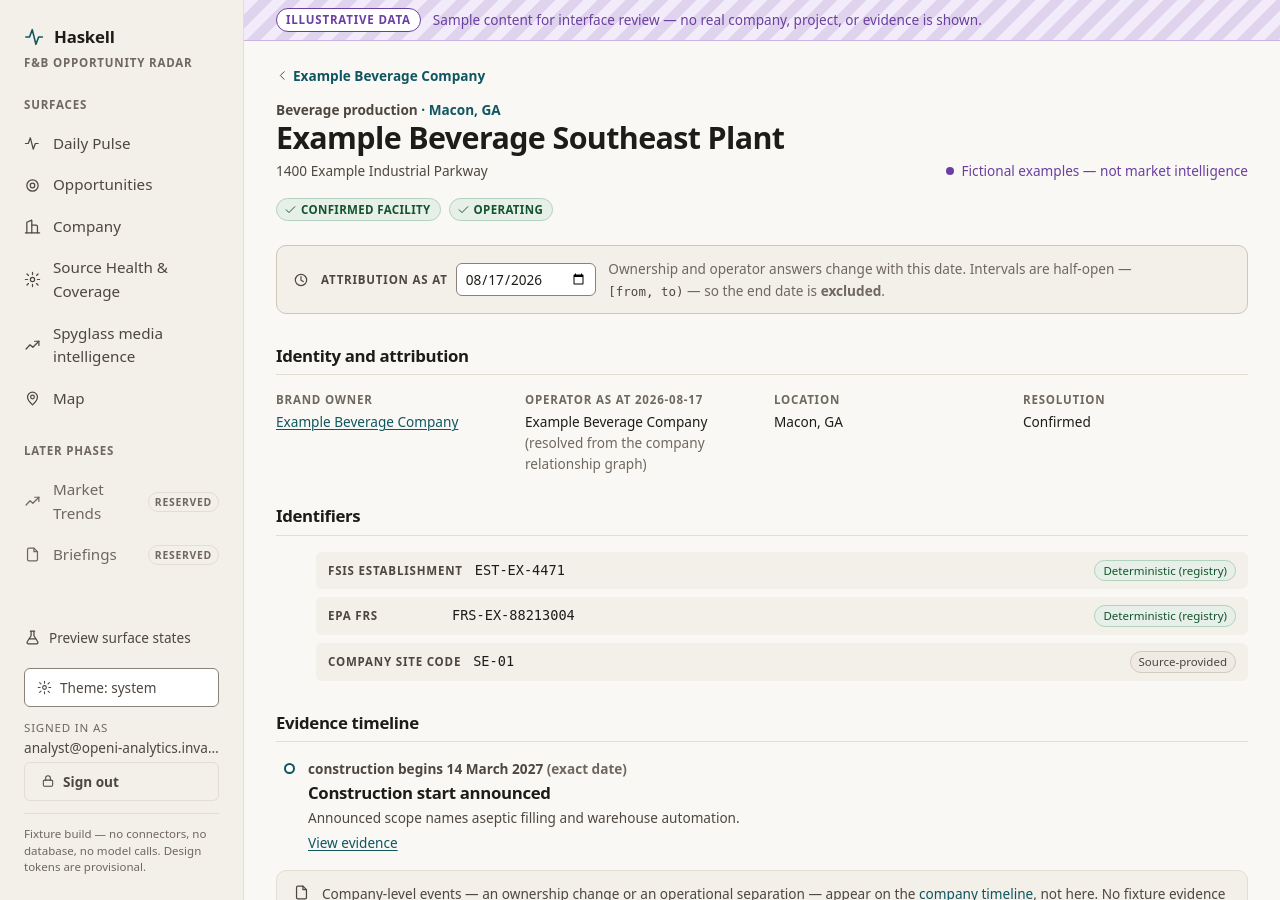
Test case: facility detail › reaches evidence from a site event
The image size is (1280, 900).
Check: the heading "Example Beverage Southeast Plant" is shown, box 276,120 -> 784,156
Click the link "View evidence" at (353, 843), box 308,832 -> 398,854
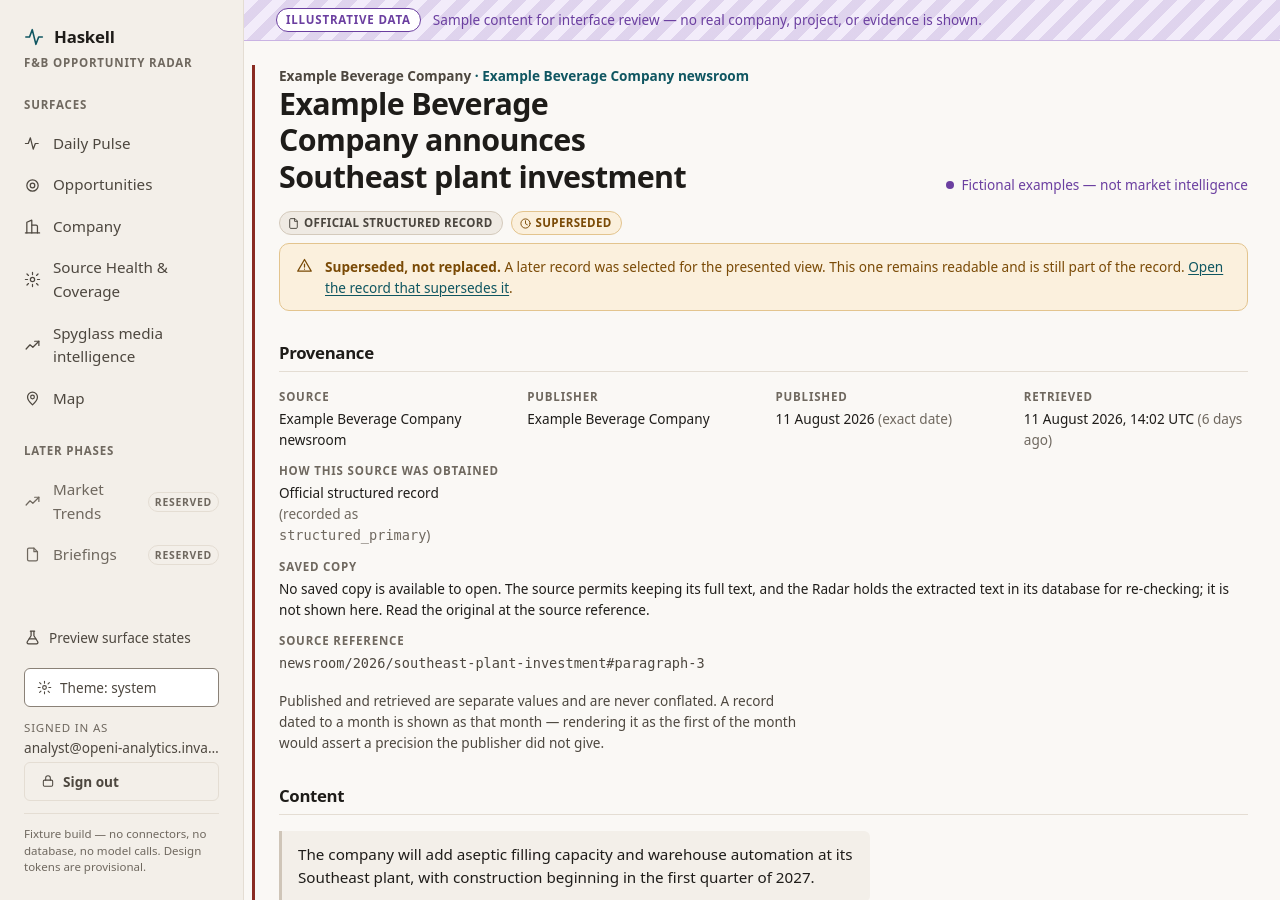
Check: the heading "Example Beverage Company announces Southeast plant investment" is shown, box 279,83 -> 686,197
